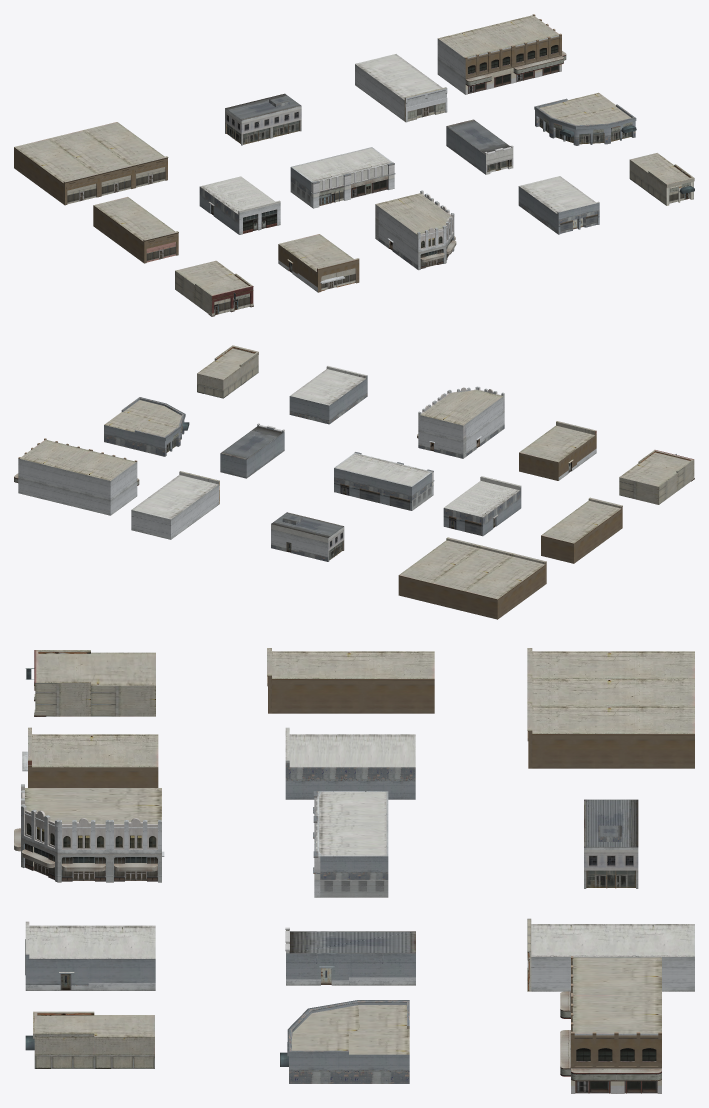
File: b_midcity.glb
3 views of the same model, one above another, from view 1: azimuth 30°, elevation 25°; view 2: azimuth 150°, elevation 25°; view 3: azimuth 270°, elevation 25° (orthographic). The views are drawn at different scales.
Parts seen in each view (by area): view 1: MidCity_Commercial_5_B_Midcity_Facade_FLR_1_0, MidCity_Commercial_14_Midcity_Facade_FLR_1_0, MidCity_Commercial_6_Midcity_Facade_FLR_2_0, MidCity_Commercial_1_Midcity_Facade_FLR_2_0, MidCity_Commercial_7_Midcity_Facade_FLR_2_0, MidCity_Commercial_14_Midcity_Walls_FLR_1_0, MidCity_Commercial_11_Midcity_Facade_FLR_1_0, MidCity_Commercial_4_Midcity_Facade_FLR_2_0, MidCity_Commercial_2_Midcity_Facade_FLR_2_0, MidCity_Commercial_8_Midcity_Facade_FLR_2_0, MidCity_Commercial_15_Midcity_Facade_FLR_2_0, MidCity_Commercial_8_Midcity_Facade_FLR_1_0 (+11 smaller); view 2: MidCity_Commercial_5_B_Midcity_Facade_FLR_1_0, MidCity_Commercial_14_Midcity_Walls_FLR_1_0, MidCity_Commercial_1_Midcity_Facade_FLR_2_0, MidCity_Commercial_6_Midcity_Facade_FLR_2_0, MidCity_Commercial_8_Midcity_Facade_FLR_2_0, MidCity_Commercial_2_Midcity_Facade_FLR_2_0, MidCity_Commercial_5_B_Midcity_Walls_FLR_1_0, MidCity_Commercial_7_Midcity_Facade_FLR_2_0, MidCity_Commercial_11_Midcity_Facade_FLR_1_0, MidCity_Commercial_4_Midcity_Facade_FLR_2_0, MidCity_Commercial_14_Midcity_Facade_FLR_1_0, MidCity_Commercial_15_Midcity_Facade_FLR_2_0 (+8 smaller); view 3: MidCity_Commercial_5_B_Midcity_Facade_FLR_1_0, MidCity_Commercial_14_Midcity_Facade_FLR_1_0, MidCity_Commercial_7_Midcity_Facade_FLR_2_0, MidCity_Commercial_8_Midcity_Facade_FLR_1_0, MidCity_Commercial_11_Midcity_Facade_FLR_1_0, MidCity_Commercial_2_Midcity_Facade_FLR_2_0, MidCity_Commercial_6_Midcity_Facade_FLR_2_0, MidCity_Commercial_1_Midcity_Facade_FLR_2_0, MidCity_Commercial_15_Midcity_Facade_FLR_2_0, MidCity_Commercial_12_Midcity_Facade_FLR_1_0, MidCity_Commercial_5_B_Midcity_Walls_FLR_1_0, MidCity_Commercial_5_Midcity_Walls_FLR_1_0 (+8 smaller).
Part boxes in pixels (x1,y1,x2,y2): MidCity_Commercial_5_B_Midcity_Facade_FLR_1_0: (14,122,167,204); MidCity_Commercial_14_Midcity_Facade_FLR_1_0: (438,15,566,93); MidCity_Commercial_6_Midcity_Facade_FLR_2_0: (355,54,447,122); MidCity_Commercial_1_Midcity_Facade_FLR_2_0: (290,147,395,208); MidCity_Commercial_7_Midcity_Facade_FLR_2_0: (518,176,599,234); MidCity_Commercial_14_Midcity_Walls_FLR_1_0: (437,14,561,94); MidCity_Commercial_11_Midcity_Facade_FLR_1_0: (175,260,253,316); MidCity_Commercial_4_Midcity_Facade_FLR_2_0: (225,93,301,145); MidCity_Commercial_2_Midcity_Facade_FLR_2_0: (199,176,280,234); MidCity_Commercial_8_Midcity_Facade_FLR_2_0: (375,190,454,270); MidCity_Commercial_15_Midcity_Facade_FLR_2_0: (446,119,513,174); MidCity_Commercial_8_Midcity_Facade_FLR_1_0: (375,193,456,268); MidCity_Commercial_5_B_Midcity_Facade_FLR_1_0: (399,537,546,599); MidCity_Commercial_14_Midcity_Walls_FLR_1_0: (18,438,137,515); MidCity_Commercial_1_Midcity_Facade_FLR_2_0: (334,452,434,510); MidCity_Commercial_6_Midcity_Facade_FLR_2_0: (131,472,218,539); MidCity_Commercial_8_Midcity_Facade_FLR_2_0: (418,386,504,458); MidCity_Commercial_2_Midcity_Facade_FLR_2_0: (443,476,521,536); MidCity_Commercial_5_B_Midcity_Walls_FLR_1_0: (398,561,546,619); MidCity_Commercial_7_Midcity_Facade_FLR_2_0: (289,366,367,424); MidCity_Commercial_11_Midcity_Facade_FLR_1_0: (619,450,694,504); MidCity_Commercial_4_Midcity_Facade_FLR_2_0: (271,512,344,561); MidCity_Commercial_14_Midcity_Facade_FLR_1_0: (14,440,139,485); MidCity_Commercial_15_Midcity_Facade_FLR_2_0: (220,423,284,478); MidCity_Commercial_5_B_Midcity_Facade_FLR_1_0: (527,648,694,733); MidCity_Commercial_14_Midcity_Facade_FLR_1_0: (560,957,661,1093); MidCity_Commercial_7_Midcity_Facade_FLR_2_0: (25,921,155,990); MidCity_Commercial_8_Midcity_Facade_FLR_1_0: (14,788,161,881); MidCity_Commercial_11_Midcity_Facade_FLR_1_0: (25,650,155,716); MidCity_Commercial_2_Midcity_Facade_FLR_2_0: (285,727,415,799); MidCity_Commercial_6_Midcity_Facade_FLR_2_0: (527,924,694,991); MidCity_Commercial_1_Midcity_Facade_FLR_2_0: (313,791,388,897); MidCity_Commercial_15_Midcity_Facade_FLR_2_0: (285,927,415,985); MidCity_Commercial_12_Midcity_Facade_FLR_1_0: (25,1011,154,1068); MidCity_Commercial_5_B_Midcity_Walls_FLR_1_0: (527,730,694,768); MidCity_Commercial_5_Midcity_Walls_FLR_1_0: (267,675,434,713).
Size of the model in its own units: 151 by 10.75 by 105.
3 materials, 3 textured.
